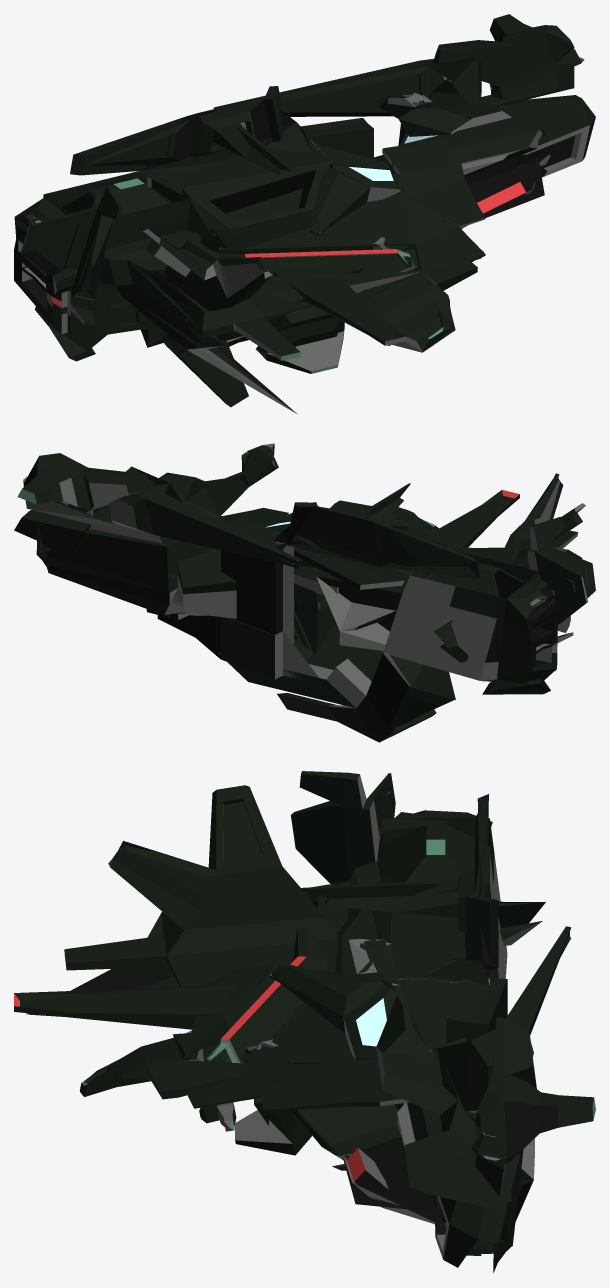
Rendered from scout.glb.
3 renders of one model, top to bottom at view 1: azimuth 30°, elevation 25°; view 2: azimuth 150°, elevation 25°; view 3: azimuth 270°, elevation 25°, orthographic. The views are drawn at different scales.
Parts seen in each view (by area): view 1: Cube; view 2: Cube; view 3: Cube.
Boxes of the visible parts, x1,y1,x2,y2 form: Cube: [14, 14, 595, 414]; Cube: [14, 443, 595, 742]; Cube: [14, 771, 595, 1272].
Bounding box in the file's own units: 8.58 × 3.54 × 5.39.
